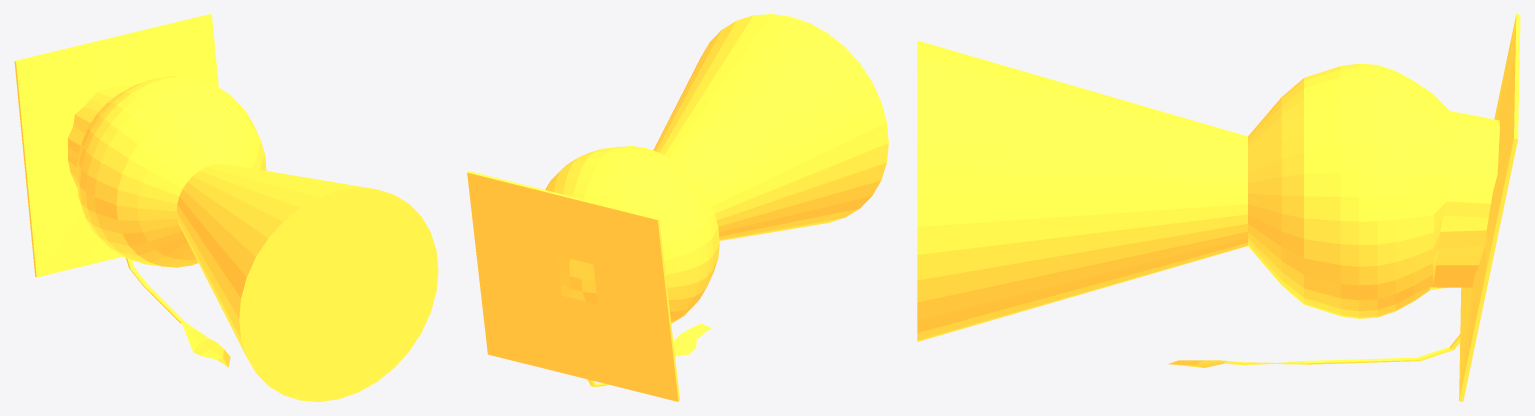
File: Spieler_mit_Hut.fbx
3 renders of one model, left to right at view 1: azimuth 30°, elevation 25°; view 2: azimuth 150°, elevation 25°; view 3: azimuth 270°, elevation 25°, orthographic. The views are drawn at different scales.
Parts seen in each view (by area): view 1: Cylinder; view 2: Cylinder; view 3: Cylinder.
Boxes of the visible parts, x1=… form: Cylinder: x1=14, y1=14, x2=438, y2=401; Cylinder: x1=467, y1=14, x2=888, y2=401; Cylinder: x1=917, y1=14, x2=1520, y2=401.
Bounding box in the file's own units: 0.8559 × 1.01 × 1.7.
